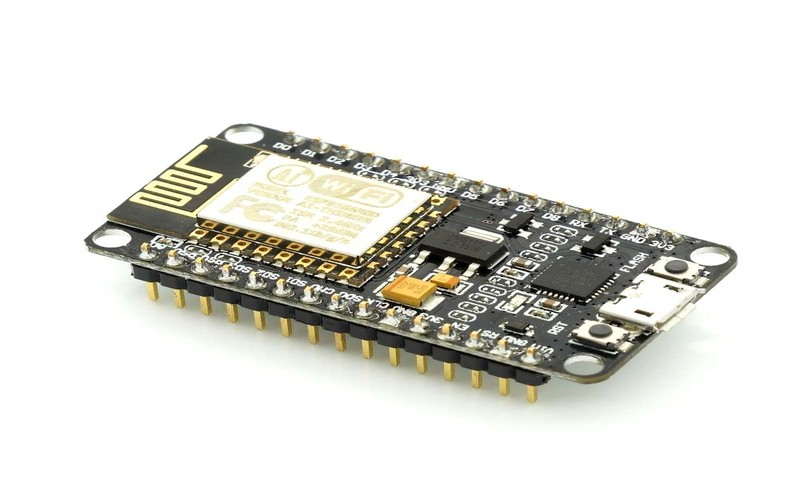IoT Sensor: (66, 93, 743, 403)
